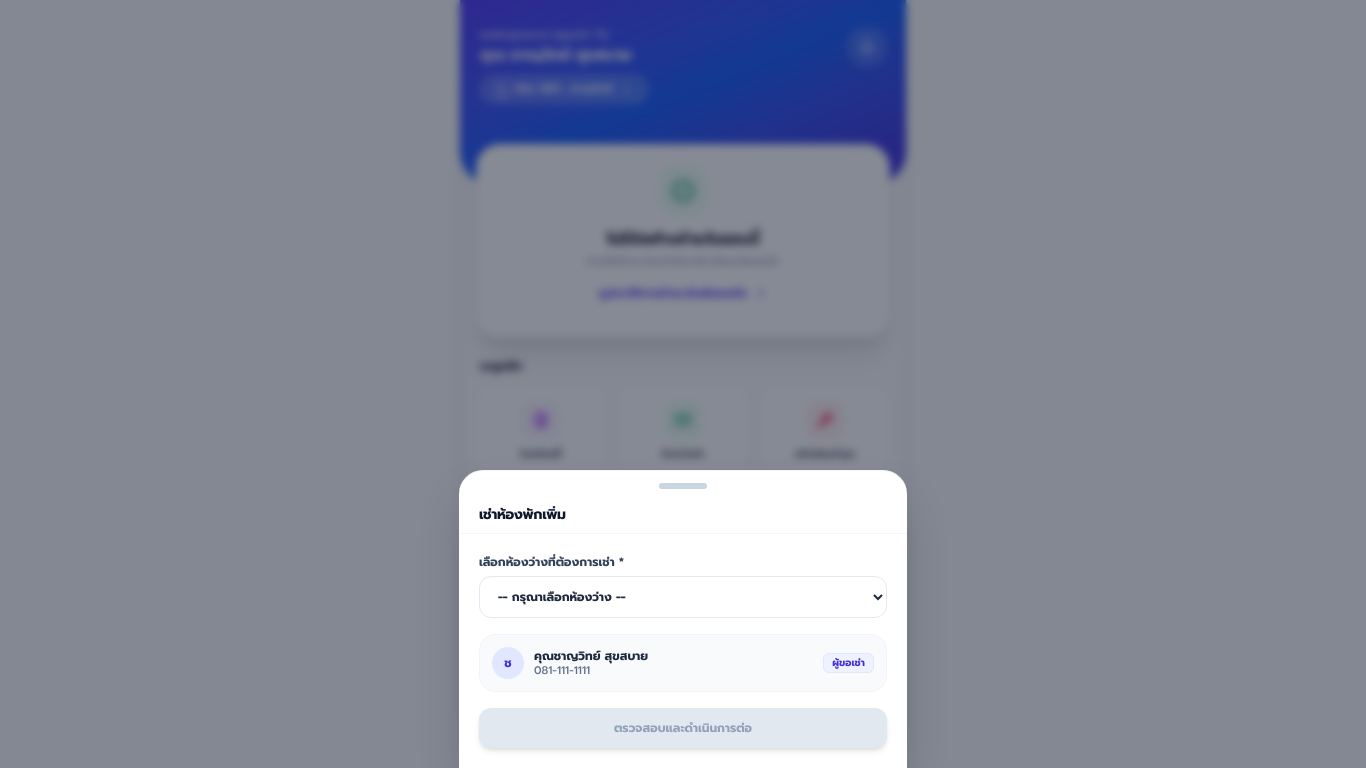
Test: Tenant Portal Phase 2: Smart Single-Tab Add Room & Multi-Room Workflow › Round 24 AC-R24-02: when room has pre-linked candidate matching phone or name, instant claim succeeds immediately
This screenshot has width=1366, height=768.
// Select room 305
Select "ห้อง 305 • ชาญวิทย์" in the dropdown at (683, 597), box top-left (479, 576), bottom-right (887, 618)
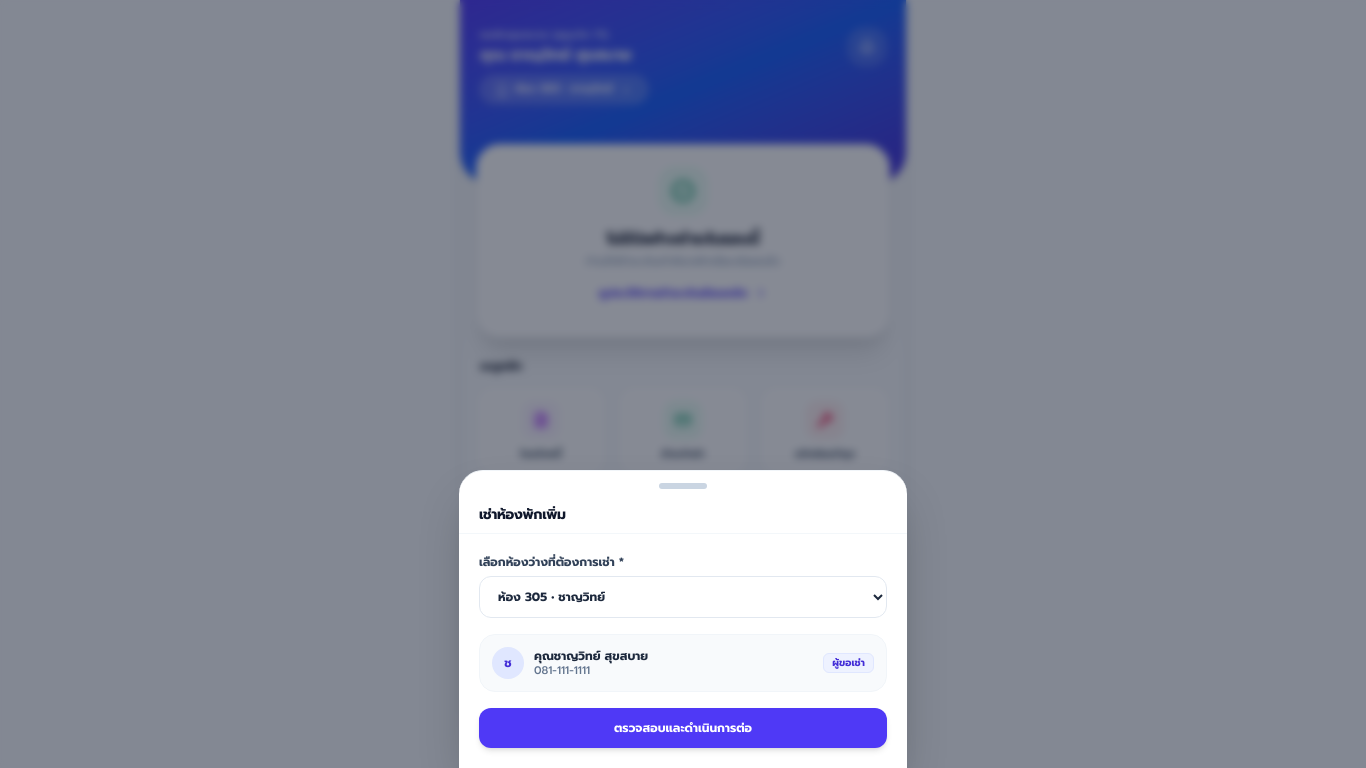
// Click proceed
Click the button "ตรวจสอบและดำเนินการต่อ" at (683, 728), box top-left (479, 708), bottom-right (887, 748)
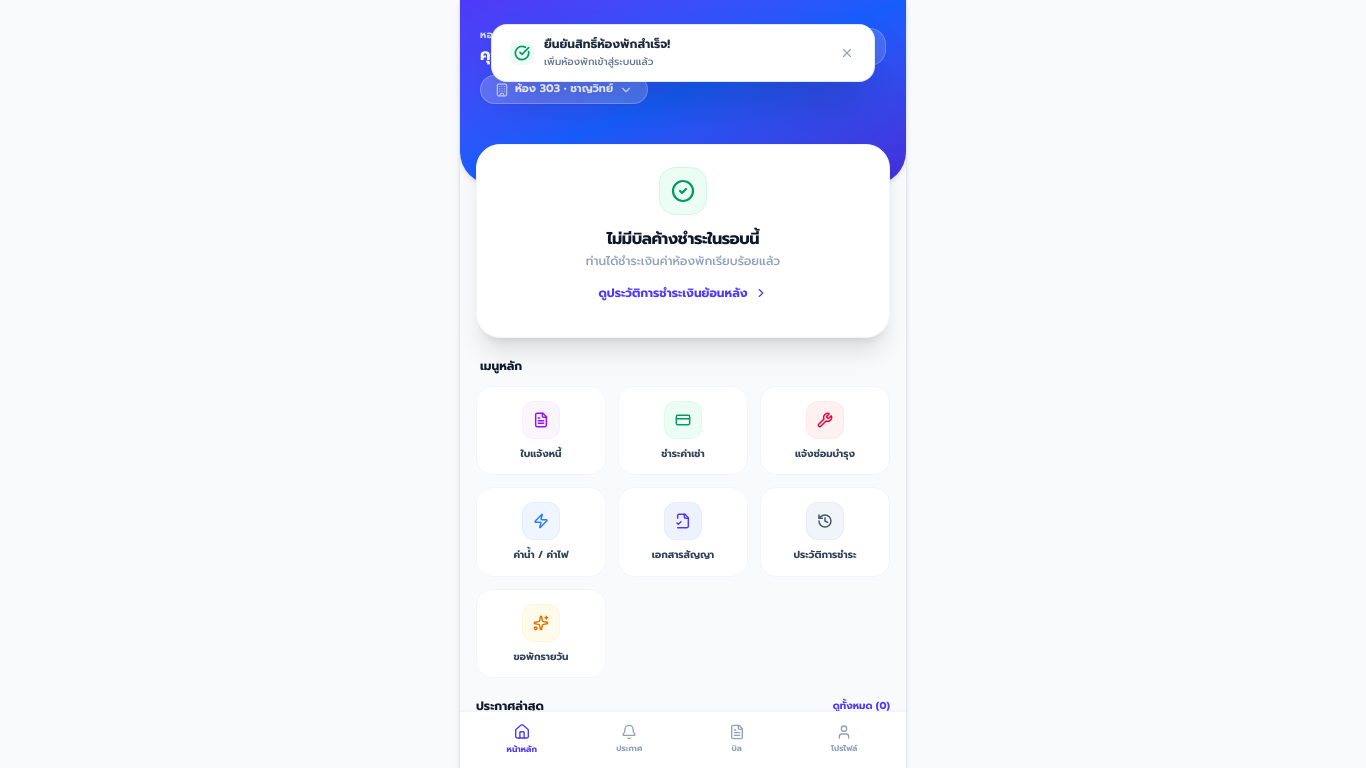
Expected: the text "ตรวจสอบ" is gone
